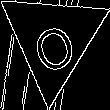O_NW: (25, 7, 80, 72)
